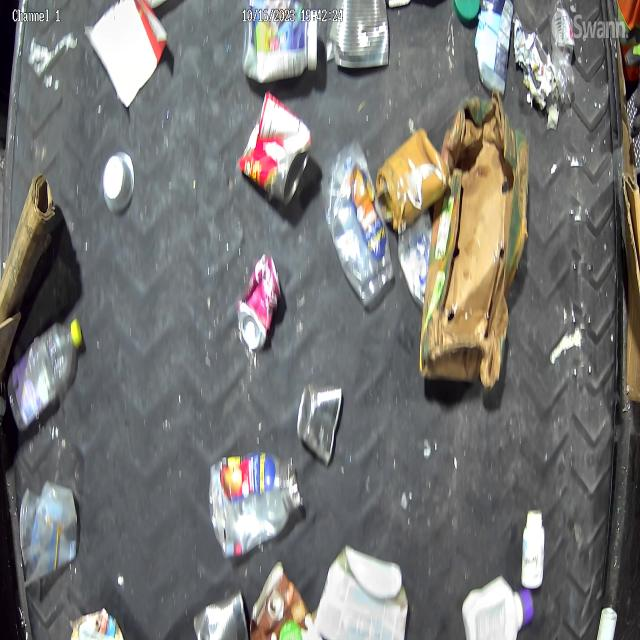can: (237, 90, 313, 206), (375, 128, 451, 236), (237, 254, 282, 352), (333, 0, 391, 71), (297, 380, 343, 465), (192, 586, 250, 640)
plastic_bottle: (208, 455, 302, 558), (6, 314, 84, 434), (551, 0, 576, 103)
